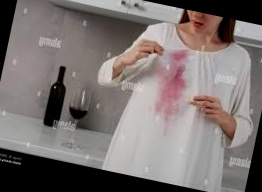wine: (148, 47, 191, 135)
